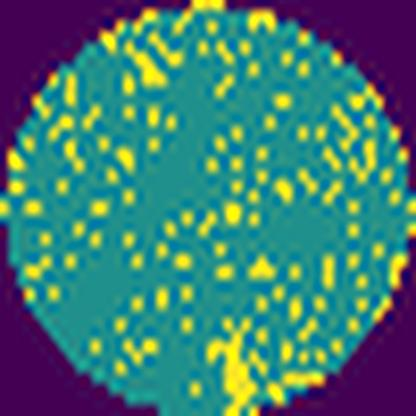Loc: (207, 316, 255, 416), (124, 44, 172, 90)
